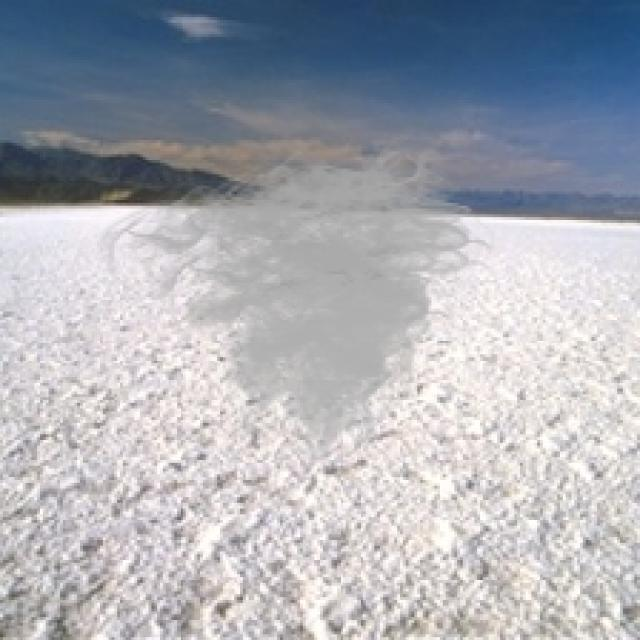Smoke: (91, 126, 508, 474)
